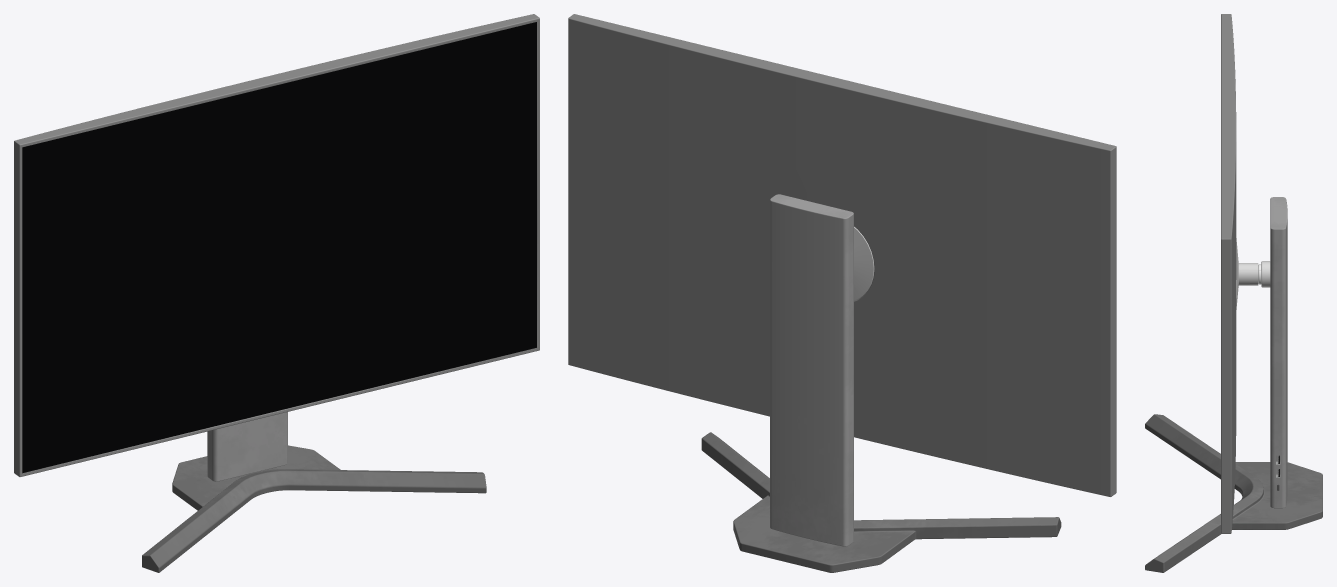
The model's file is mon-asus-va24ehf.glb.
3 renders of one model, left to right at view 1: azimuth 30°, elevation 25°; view 2: azimuth 150°, elevation 25°; view 3: azimuth 270°, elevation 25°, orthographic. The views are drawn at different scales.
Visible parts, largest first — view 1: body; view 2: body; view 3: body.
Boxes of the visible parts, left/top/right/bottom form: body: left=14, top=14, right=539, bottom=572; body: left=568, top=14, right=1116, bottom=572; body: left=1145, top=14, right=1322, bottom=572.
Bounding box in the file's own units: 0.54 × 0.417 × 0.18.
2 materials, 1 textured.
